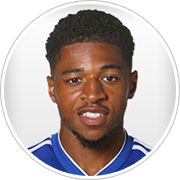face: (43, 60, 139, 133)
